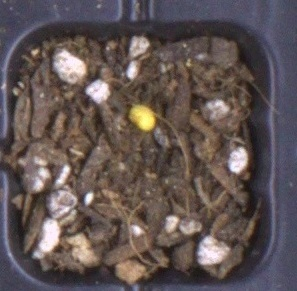chilli seed: (128, 104, 156, 131)
